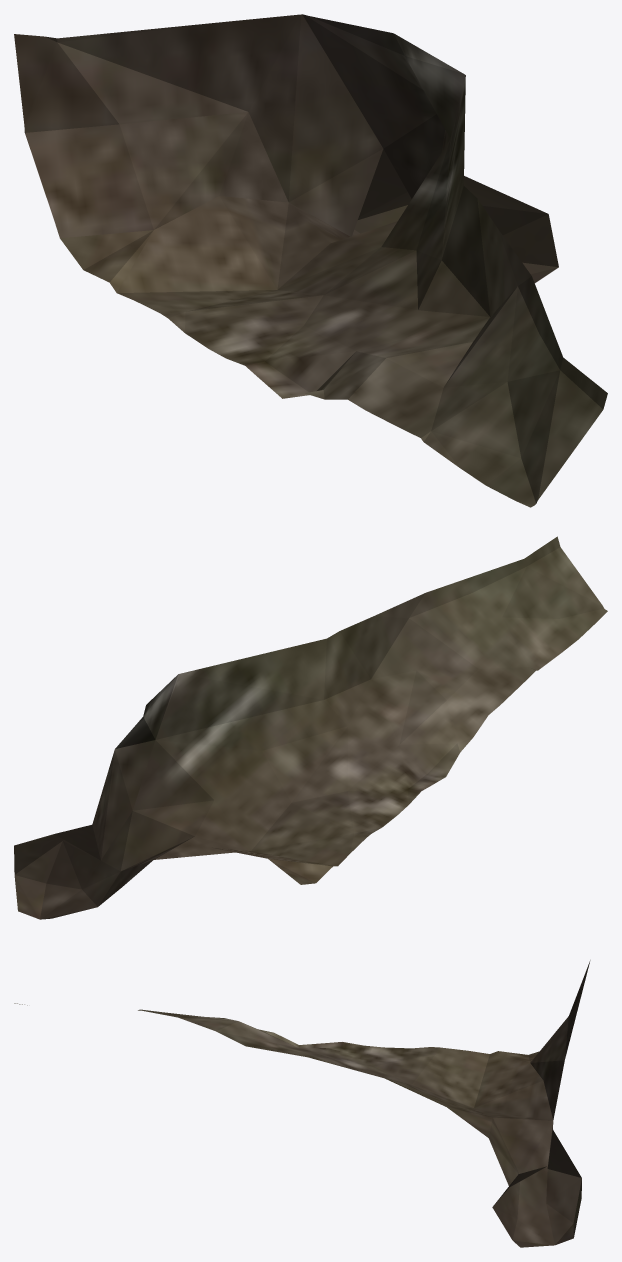
3 renders of one model, top to bottom at view 1: azimuth 30°, elevation 25°; view 2: azimuth 150°, elevation 25°; view 3: azimuth 270°, elevation 25°, orthographic. The views are drawn at different scales.
Bounding box in the file's own units: 1.85 × 1.21 × 3.53.
Materials: 1 (1 with a texture image).
